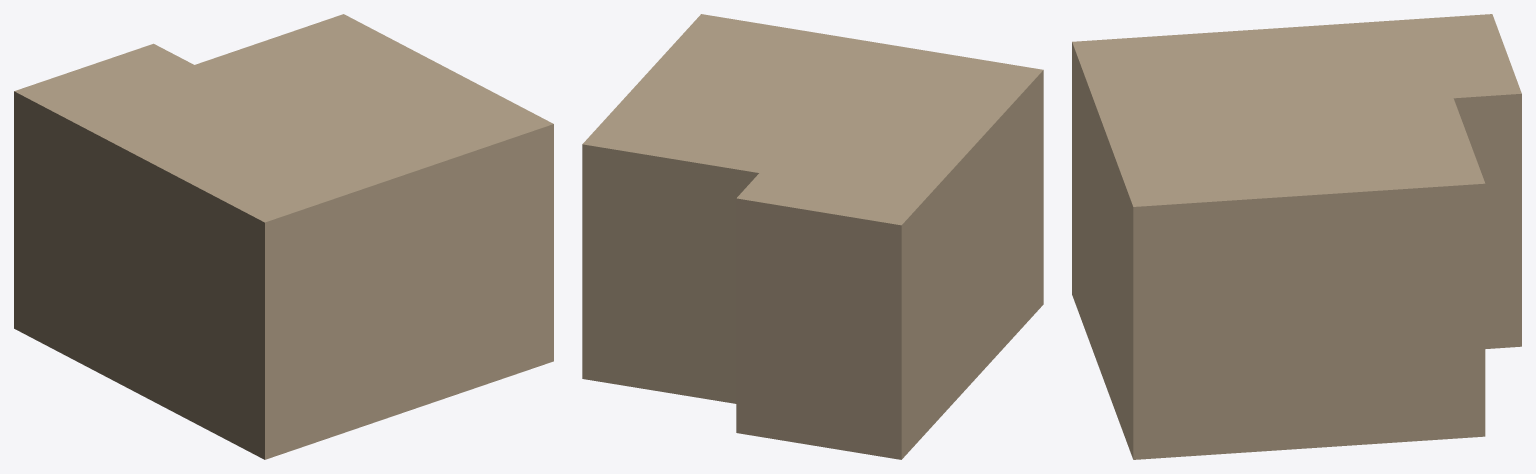
The model's file is bld_99867739.dae.
3 renders of one model, left to right at view 1: azimuth 30°, elevation 25°; view 2: azimuth 150°, elevation 25°; view 3: azimuth 270°, elevation 25°, orthographic. The views are drawn at different scales.
Parts seen in each view (by area): view 1: bld_99867739; view 2: bld_99867739; view 3: bld_99867739.
Part boxes in pixels (x1,y1,x2,y2): bld_99867739: (14, 14, 553, 459); bld_99867739: (582, 14, 1043, 459); bld_99867739: (1072, 14, 1521, 459).
Size of the model in its own units: 13.09 by 12.89 by 8.
